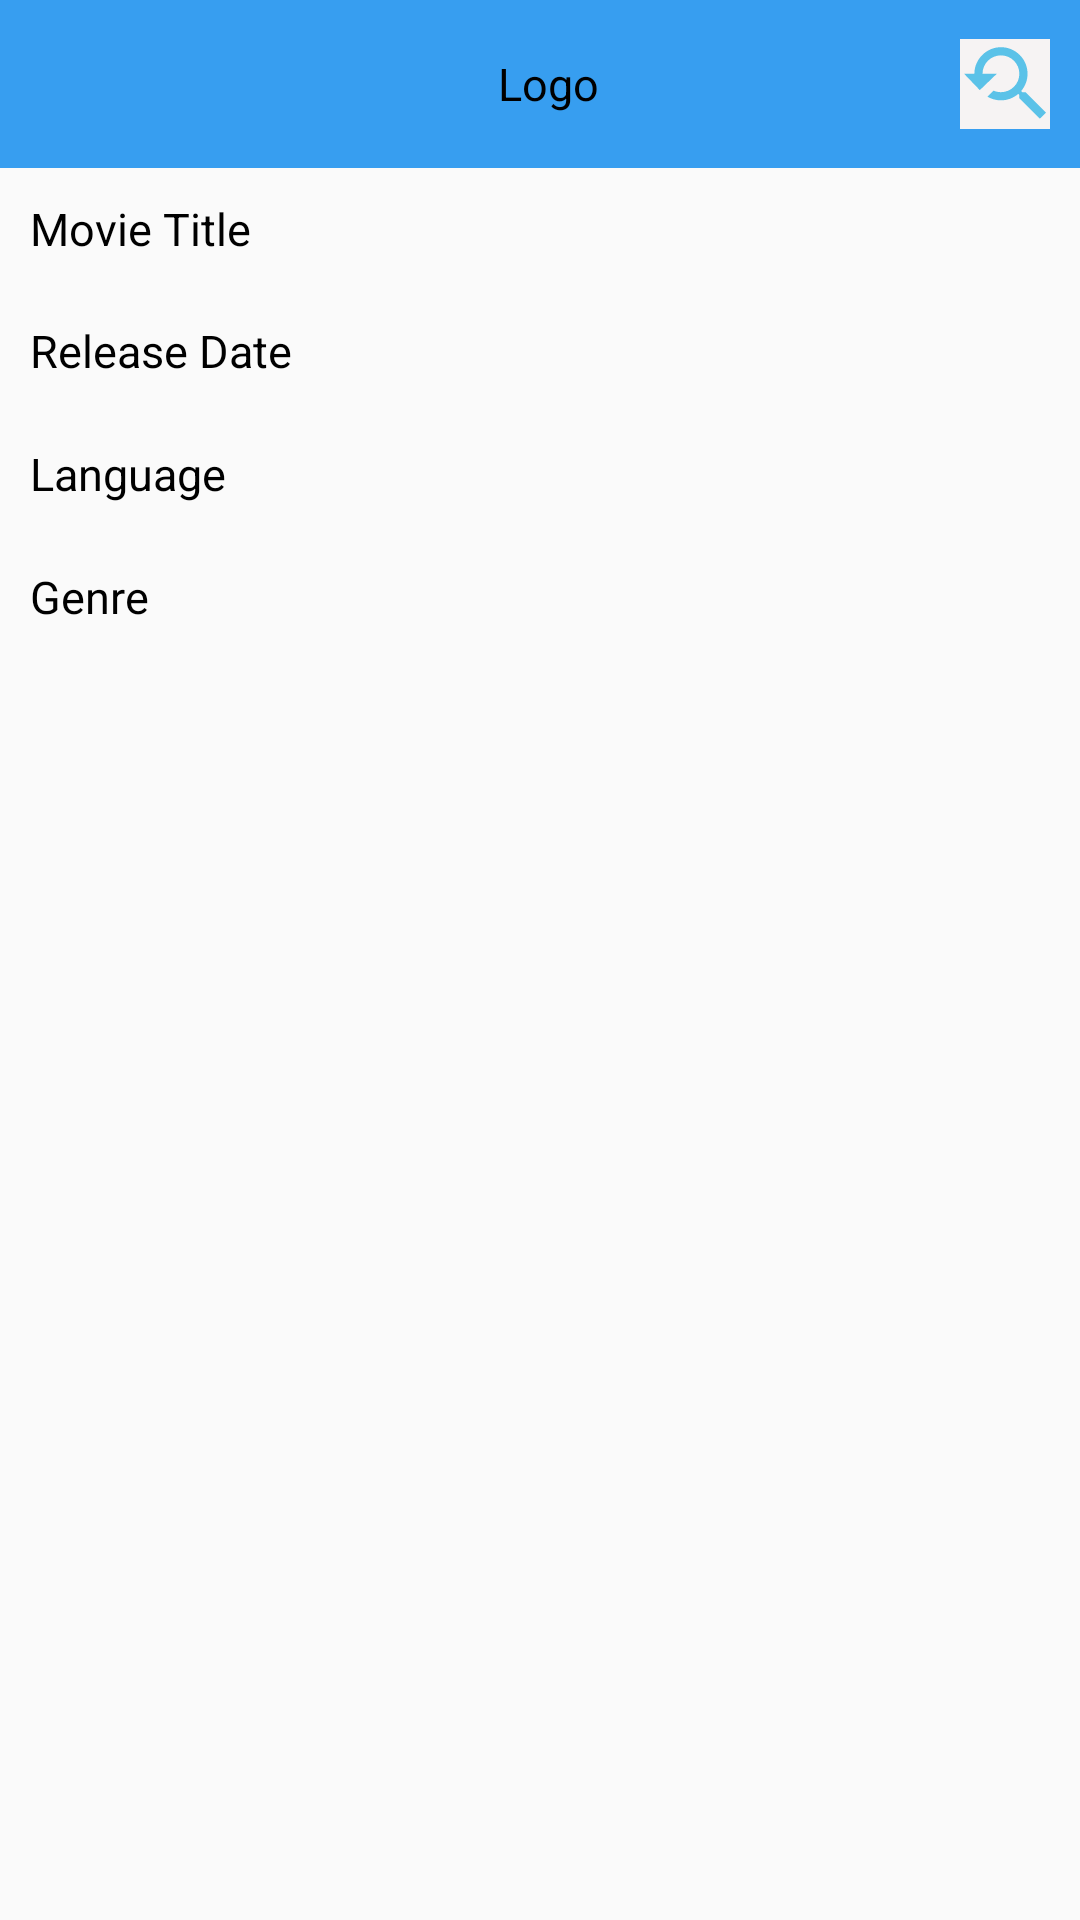

Screen size 1080*1920. Icon name, then its box in pixels as (x1, y1, x2, y2):
search: (960, 39, 1050, 129)
